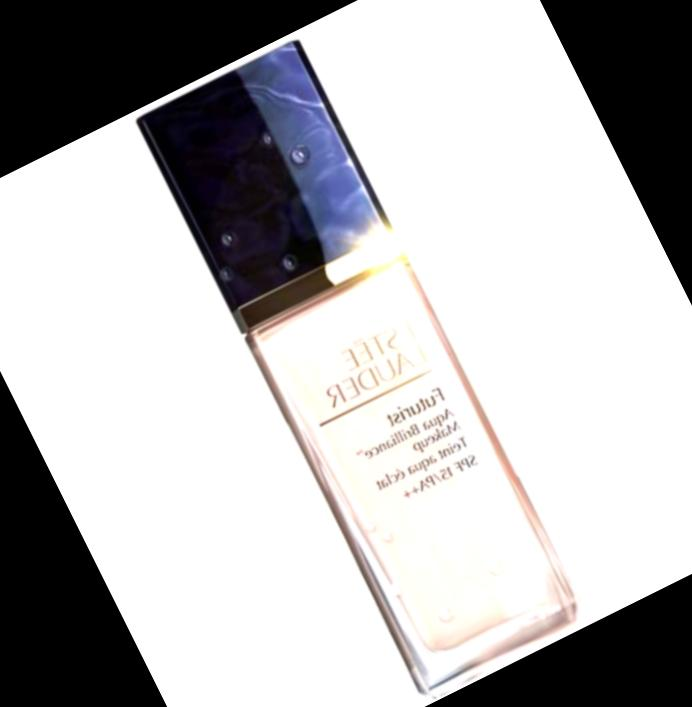cosmetic: (130, 35, 590, 704)
